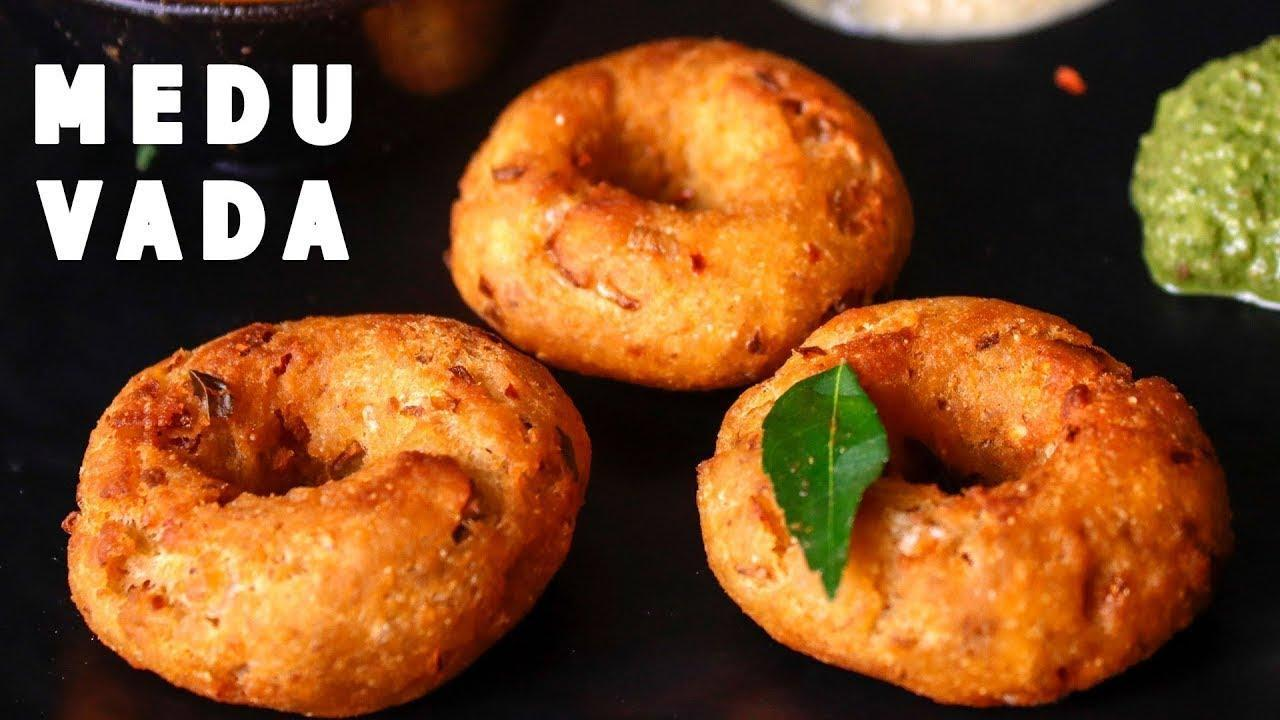mvada: (111, 333, 555, 651), (493, 48, 819, 400), (831, 318, 1132, 689)
